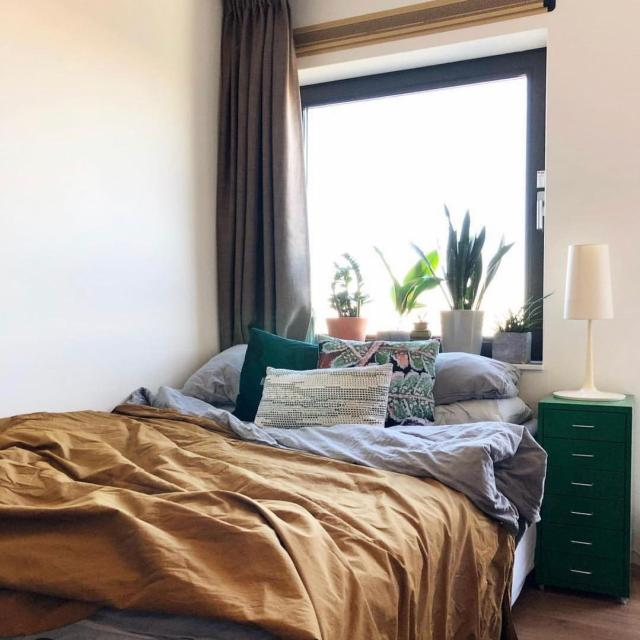bed: (4, 318, 544, 628)
